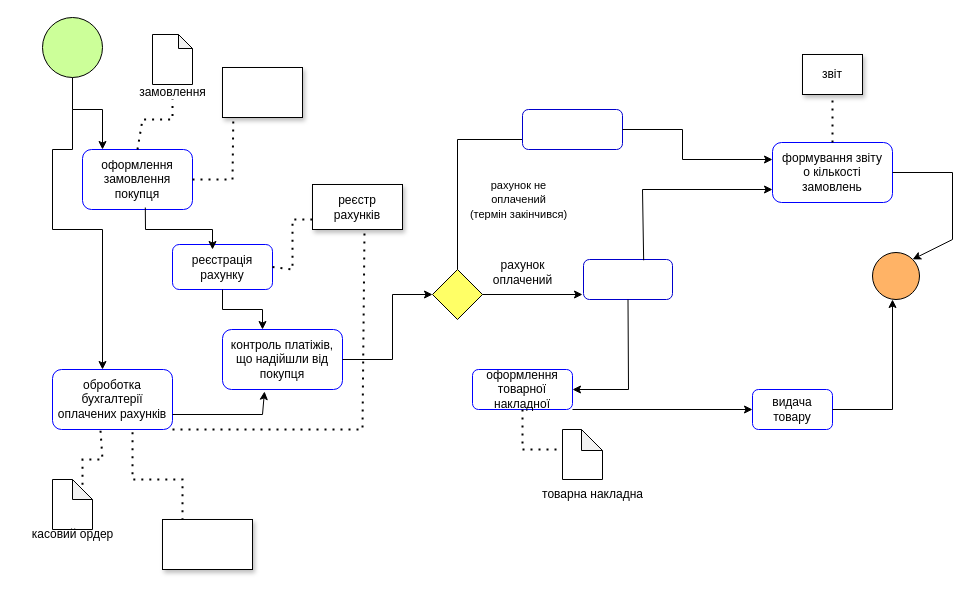
Some shapes in this 978 by 594 pixel diagram are drawn without their labels. The centre of each missing label's shape, as x and y in pixels:
"виписки банку, реєстр оплат" belongs at (x=208, y=545).
"відмітка об оплаті" belongs at (x=627, y=279).
"відмітка про недійсність замовлення" belongs at (x=572, y=129).
"журнал замовлення" belongs at (x=263, y=93).
